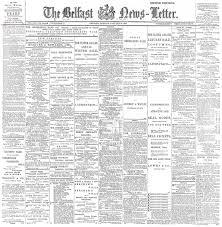Printing industry: (4, 6, 222, 227)
